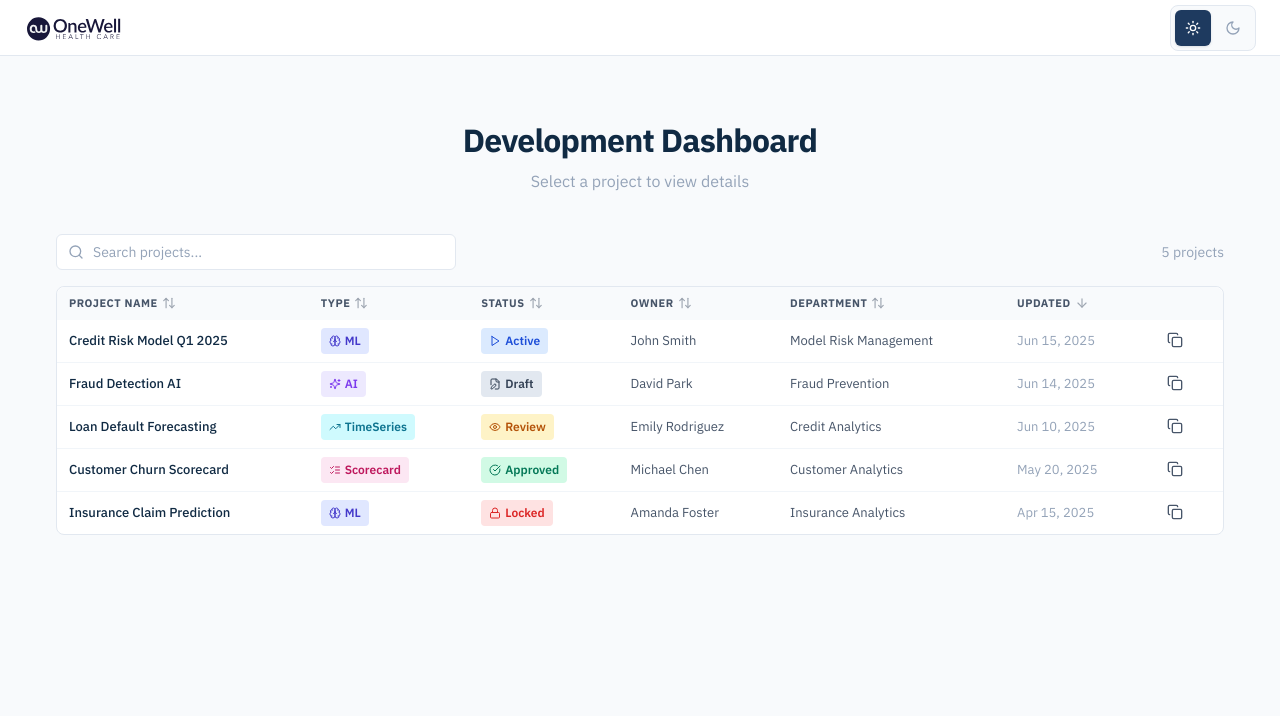
Test: Navigation › Back Button › should navigate back to home when clicking back button
Expected: the element with test id "project-table" is shown, [56,234,1224,535]
Step 1. Click the row that starts with "Credit Risk Model Q1 2025" → [640, 342], box [57,320,1223,363]
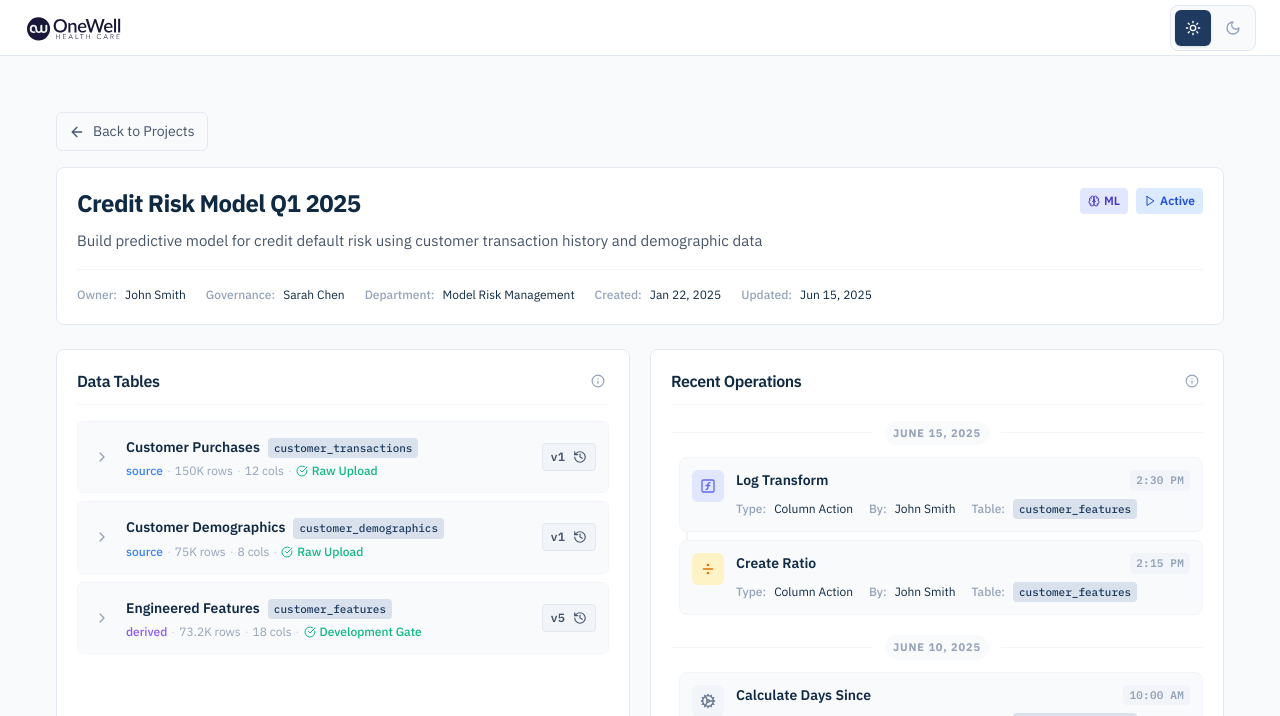
Now the header with test id "project-header" is shown, box [56,167,1224,325]
Step 2. Click the button "Back to Projects" → [132, 132], box [56,112,208,151]
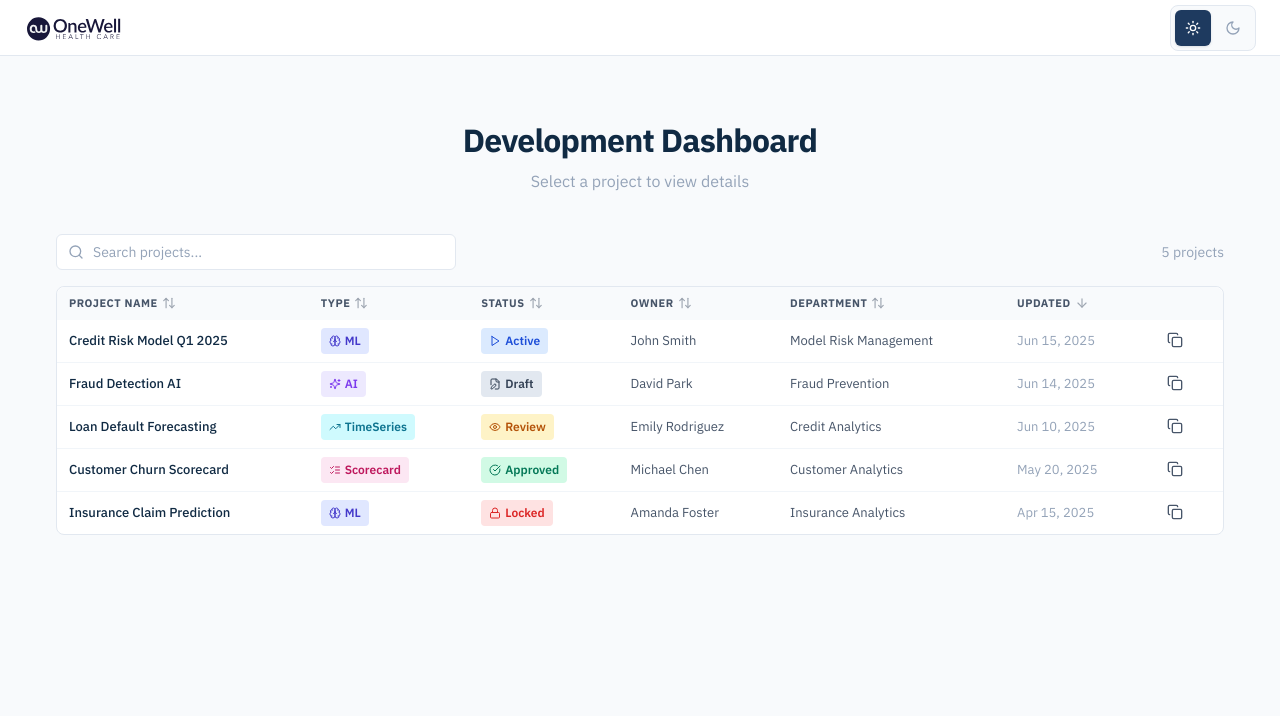
Now the element with test id "project-selector" is shown
